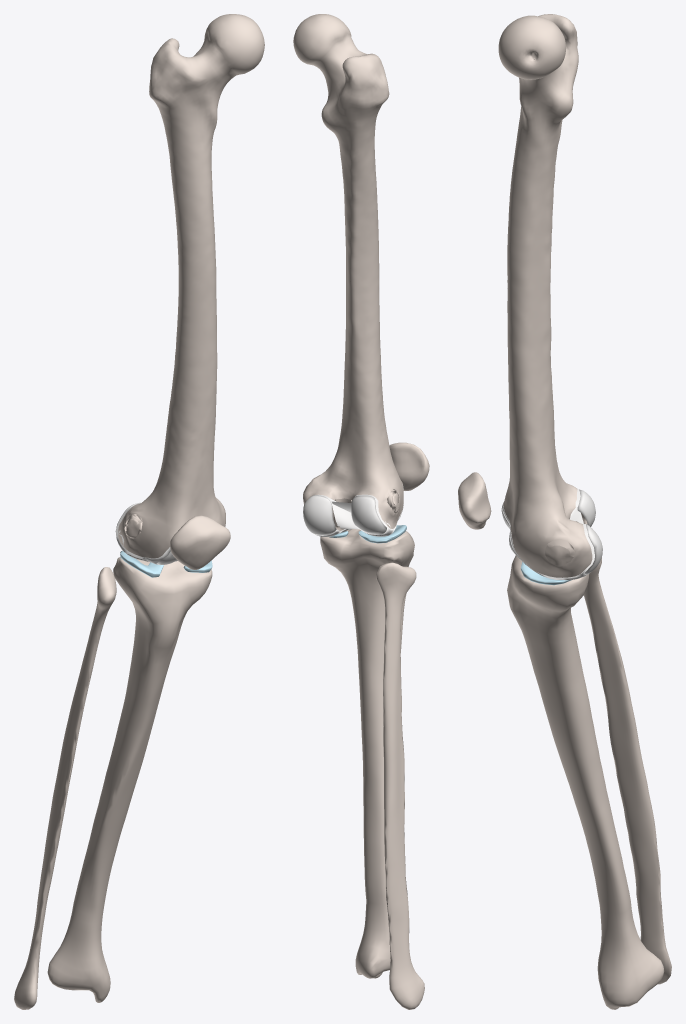
3 views of the same model, side by side, from view 1: azimuth 30°, elevation 25°; view 2: azimuth 150°, elevation 25°; view 3: azimuth 270°, elevation 25° (orthographic). The views are drawn at different scales.
Visible parts, largest first — view 1: VH_M_femur_R, VH_M_tibia_R, VH_M_fibula_R, VH_M_patella_R, VH_M_meniscus_R; view 2: VH_M_femur_R, VH_M_tibia_R, VH_M_fibula_R, VH_M_patella_R, VH_M_medial_condyle_of_right_femur_inf, VH_M_lateral_condyle_of_femur_inf_R, VH_M_articular_cartilage_of_knee_R, VH_M_meniscus_R; view 3: VH_M_femur_R, VH_M_tibia_R, VH_M_fibula_R, VH_M_patella_R, VH_M_articular_cartilage_of_knee_R.
Boxes of the visible parts, x1,y1,x2,y2 form: VH_M_femur_R: (118,14,264,558); VH_M_tibia_R: (47,557,212,1002); VH_M_fibula_R: (14,567,116,1009); VH_M_patella_R: (170,515,230,569); VH_M_meniscus_R: (120,550,212,577); VH_M_femur_R: (293,14,403,528); VH_M_tibia_R: (320,529,414,978); VH_M_fibula_R: (376,562,424,1009); VH_M_patella_R: (389,442,429,490); VH_M_medial_condyle_of_right_femur_inf: (303,495,336,535); VH_M_lateral_condyle_of_femur_inf_R: (351,495,386,534); VH_M_articular_cartilage_of_knee_R: (315,484,403,536); VH_M_meniscus_R: (329,525,406,543); VH_M_femur_R: (498,14,592,577); VH_M_tibia_R: (507,555,664,1009); VH_M_fibula_R: (583,557,671,984); VH_M_patella_R: (458,472,491,529); VH_M_articular_cartilage_of_knee_R: (502,489,594,580).
Bounding box in the file's own units: 0.1734 × 0.8875 × 0.1646.
